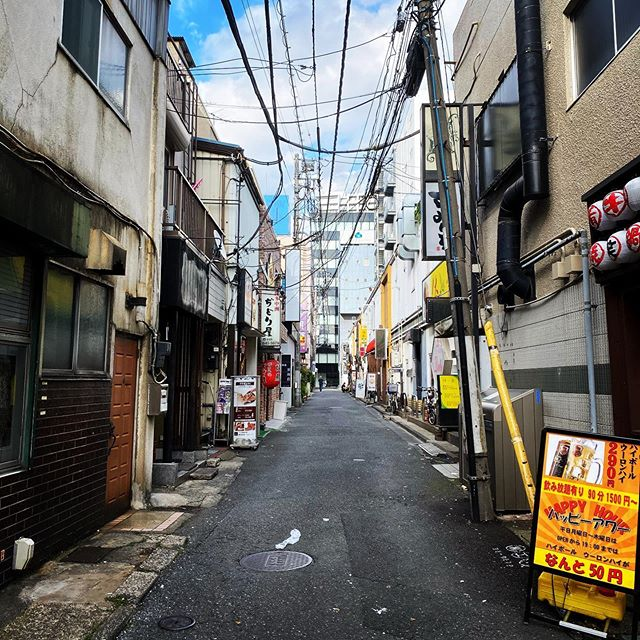building: (450, 7, 640, 640), (1, 1, 165, 536), (160, 79, 255, 470), (370, 94, 467, 446), (276, 184, 394, 394)
sign: (538, 410, 640, 598)
sky: (185, 1, 436, 179)
street: (120, 396, 531, 640)
